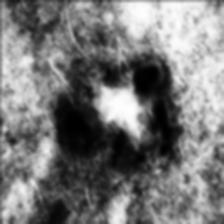Potentially Malignant Skin Tumors: (104, 136, 148, 178), (124, 51, 160, 97), (151, 100, 170, 167), (66, 106, 96, 134)
